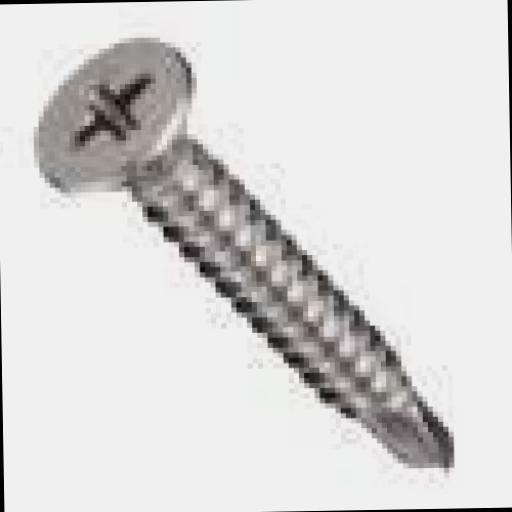Phillips: (16, 23, 200, 206)
